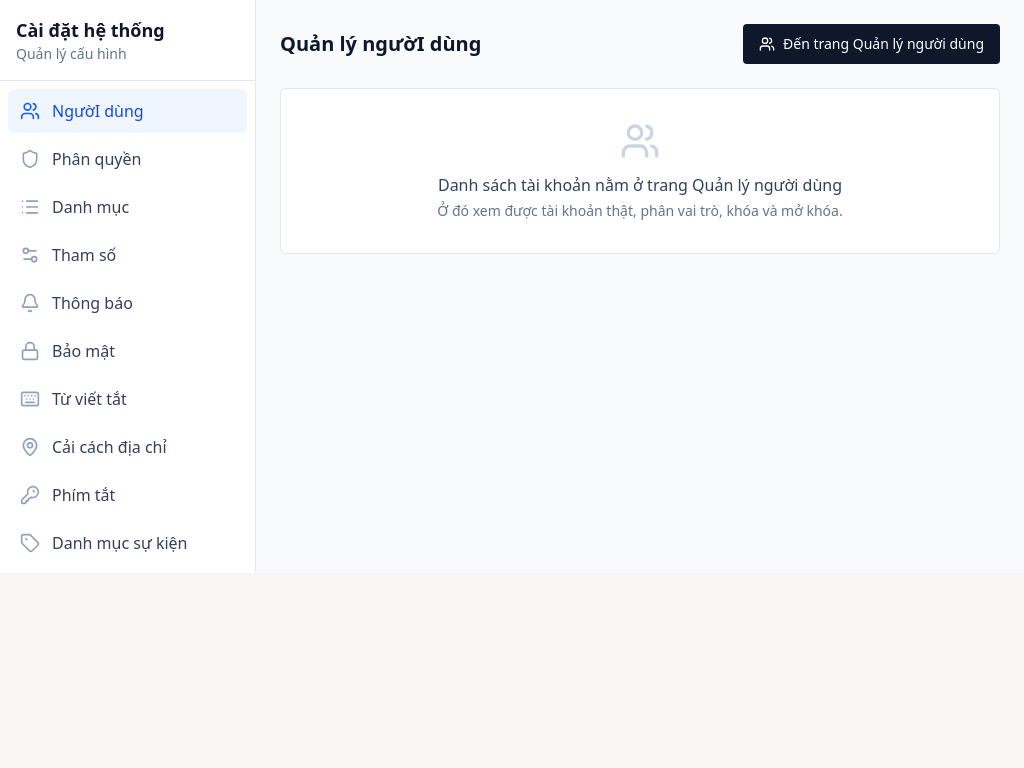
Scenario: SettingsPage › should switch to directories module when clicking menu
What coordinates should you click on to do the following:
click the button with test id "settings-menu-directories"
I would click on:
 (128, 207)
Its box is left=8, top=185, right=247, bottom=229.
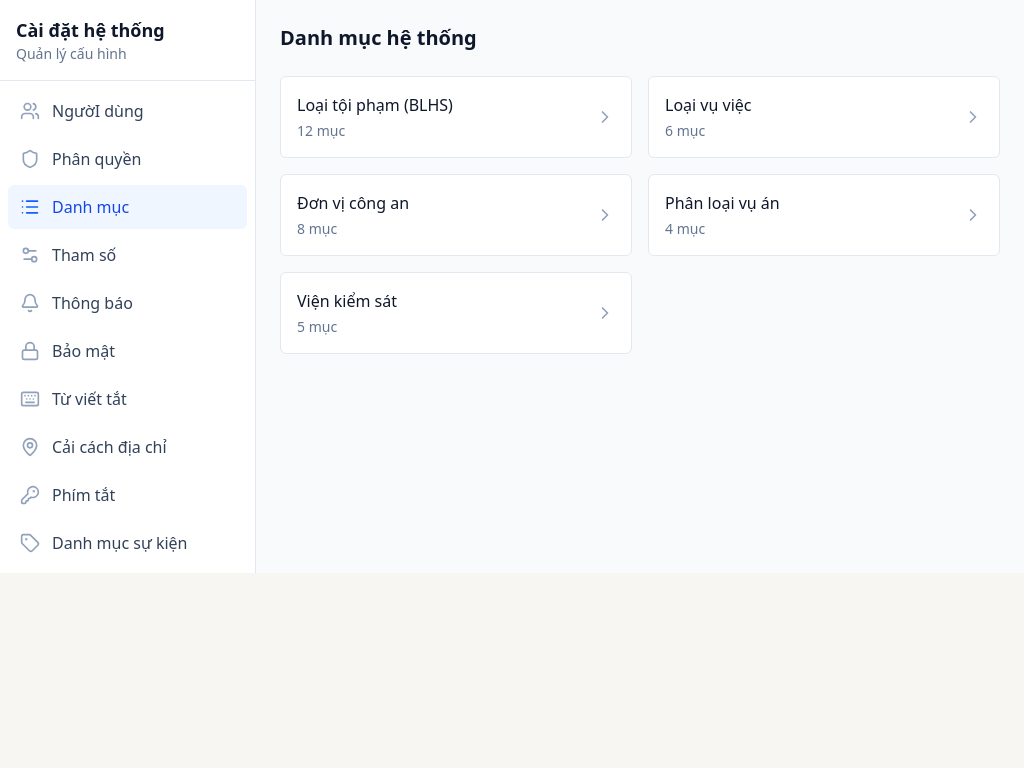
expect the heading "Danh mục hệ thống" is shown: met, box left=280, top=24, right=477, bottom=51
